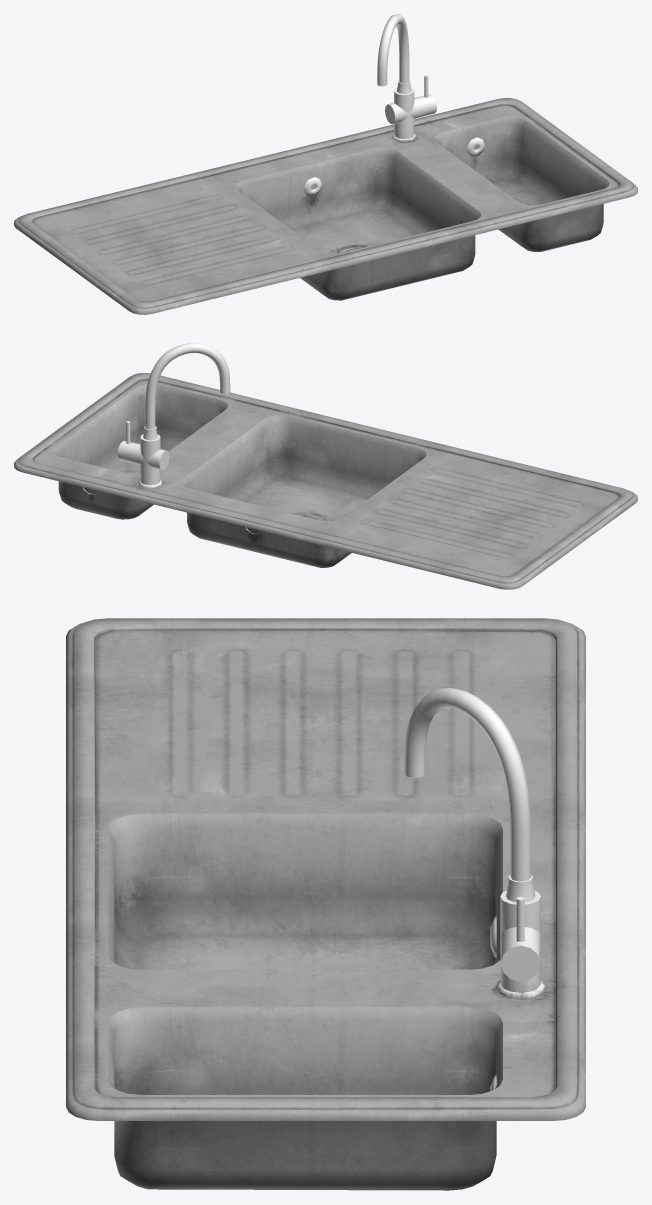
Rendered from sink.fbx.
3 views of the same model, one above another, from view 1: azimuth 30°, elevation 25°; view 2: azimuth 150°, elevation 25°; view 3: azimuth 270°, elevation 25° (orthographic). The views are drawn at different scales.
Visible parts, largest first — view 1: Sink_Kitchen_A; view 2: Sink_Kitchen_A; view 3: Sink_Kitchen_A.
Boxes of the visible parts, bbox=[...] form: Sink_Kitchen_A: bbox=[14, 14, 637, 314]; Sink_Kitchen_A: bbox=[14, 343, 637, 589]; Sink_Kitchen_A: bbox=[66, 618, 585, 1190].
Bounding box in the file's own units: 0.6429 × 0.5364 × 1.45.
